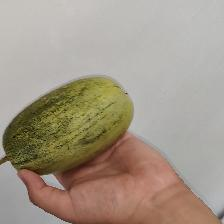gua: (36, 105, 114, 147)
